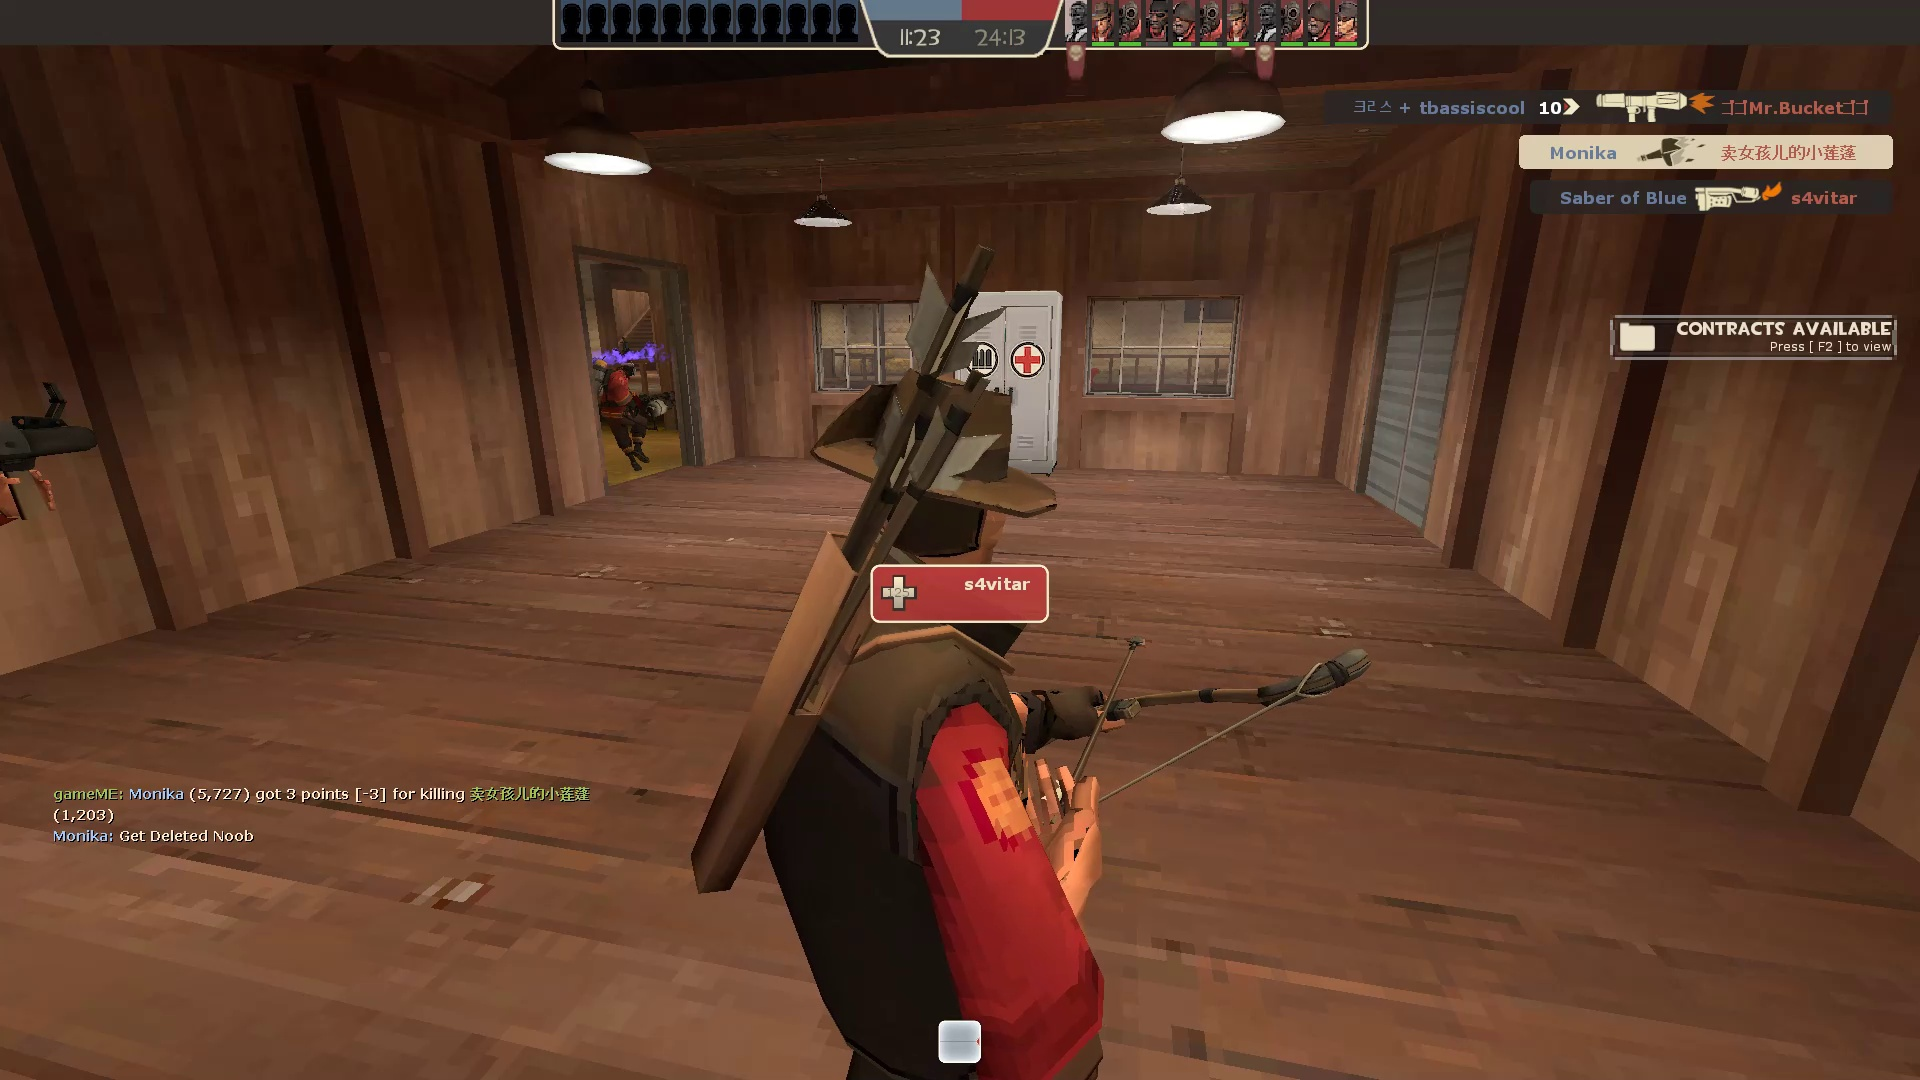red_pyro: (585, 345, 680, 475)
red_sniper: (679, 239, 1385, 1080)
